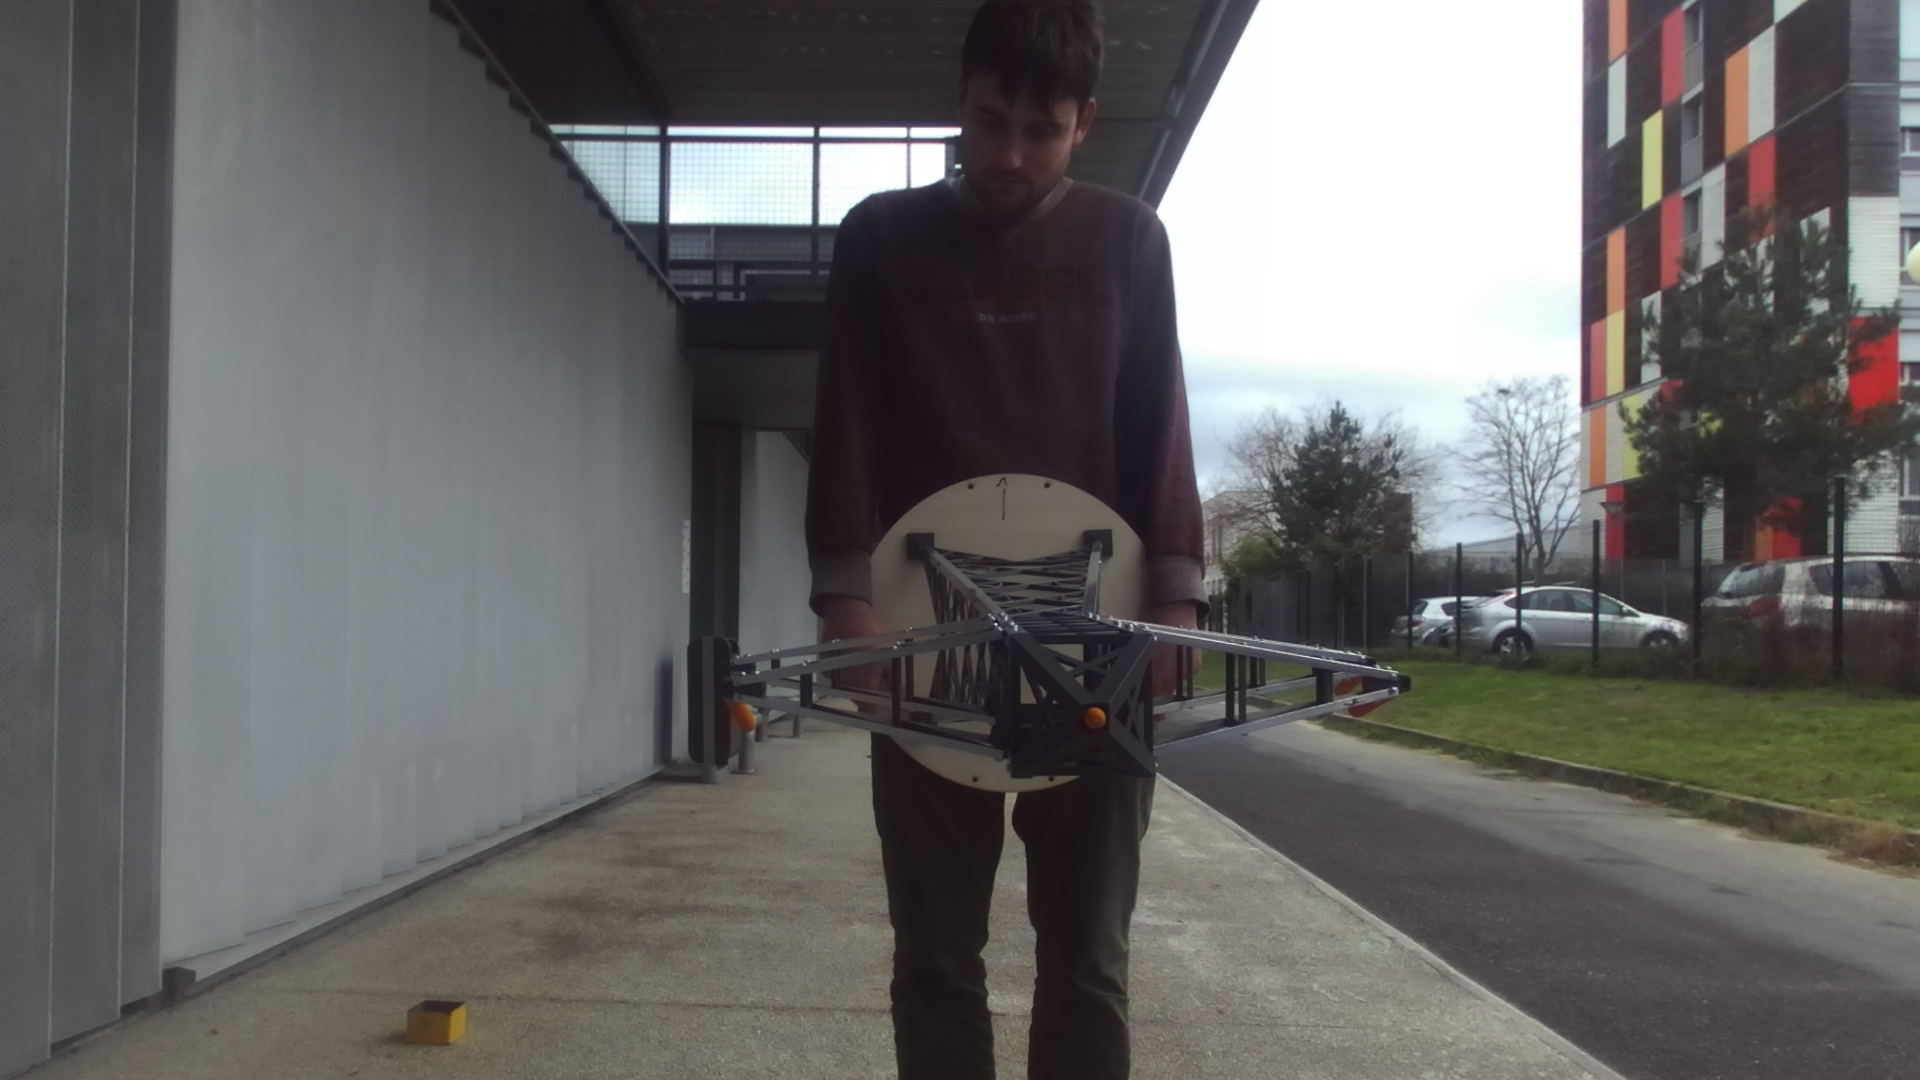pylon_phy: (715, 626, 1414, 779)
